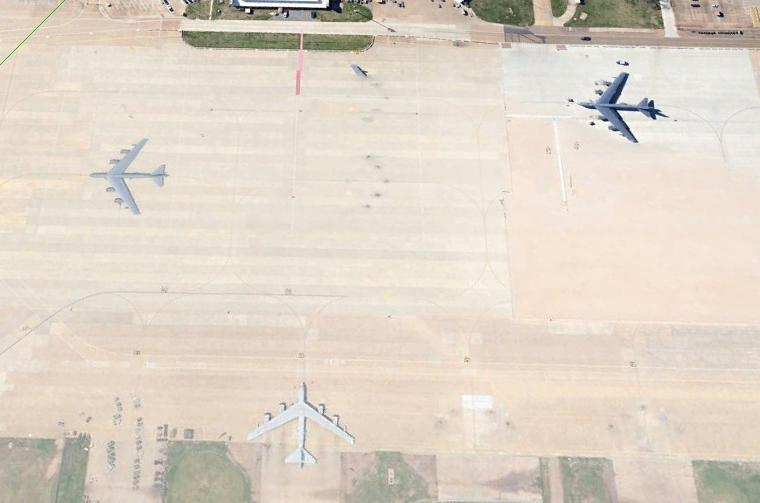B-52: (246, 382, 354, 464), (578, 70, 664, 145), (90, 137, 169, 217)
